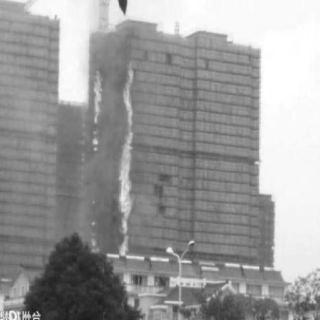Fire: (89, 218, 103, 256)
